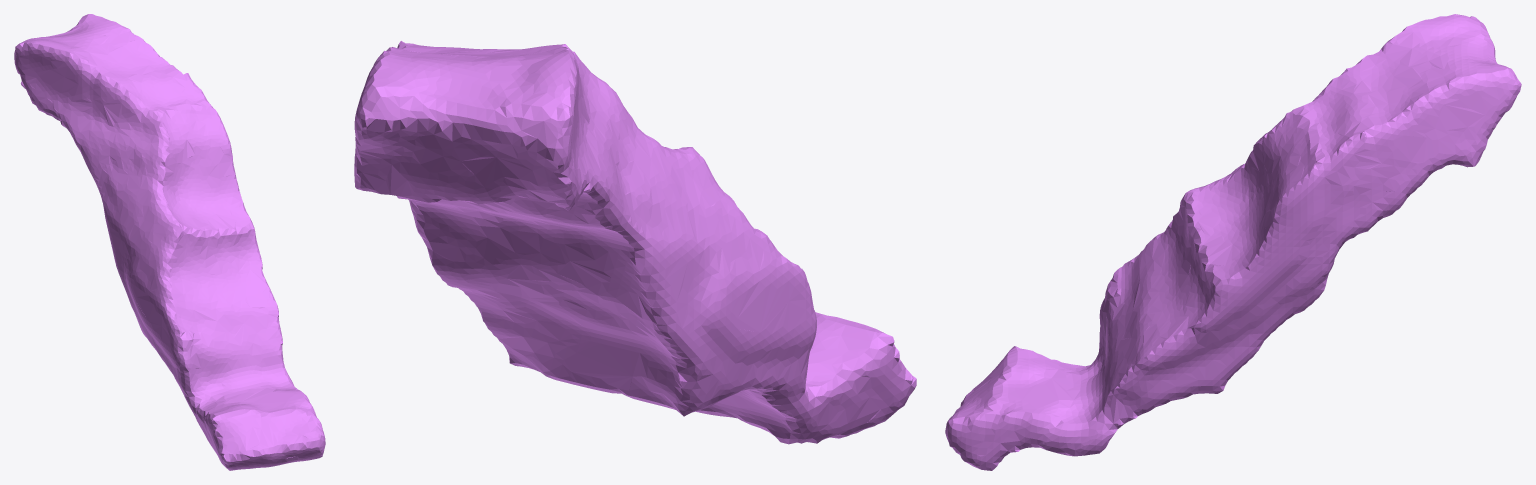
File: Model_138_RH__Temporo-parieto-occipital_association_area_(superior_temporal_polysensory_cortex)_(TPO).obj
The picture shows the model from 3 angles, left to right: view 1: azimuth 30°, elevation 25°; view 2: azimuth 150°, elevation 25°; view 3: azimuth 270°, elevation 25°; orthographic projection. The views are drawn at different scales.
Size of the model in its own units: 2.89 by 5.91 by 7.88.
